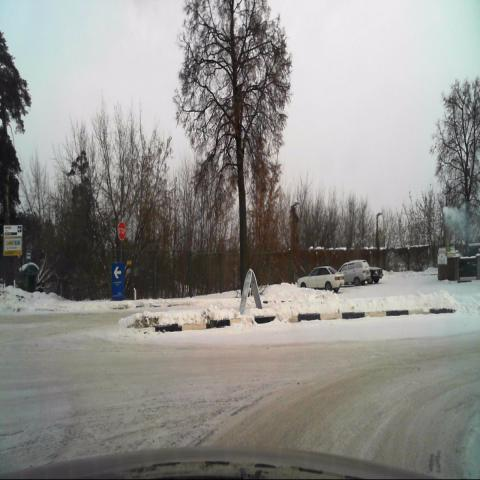2_5: (117, 221, 126, 241)
